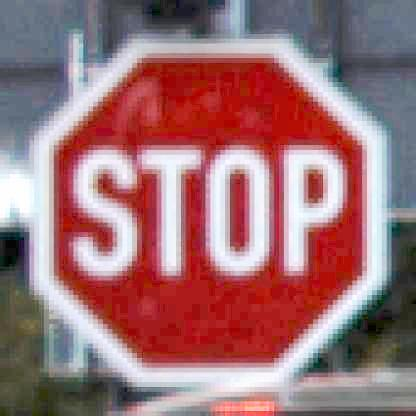Stop Sign: (23, 29, 394, 388)
